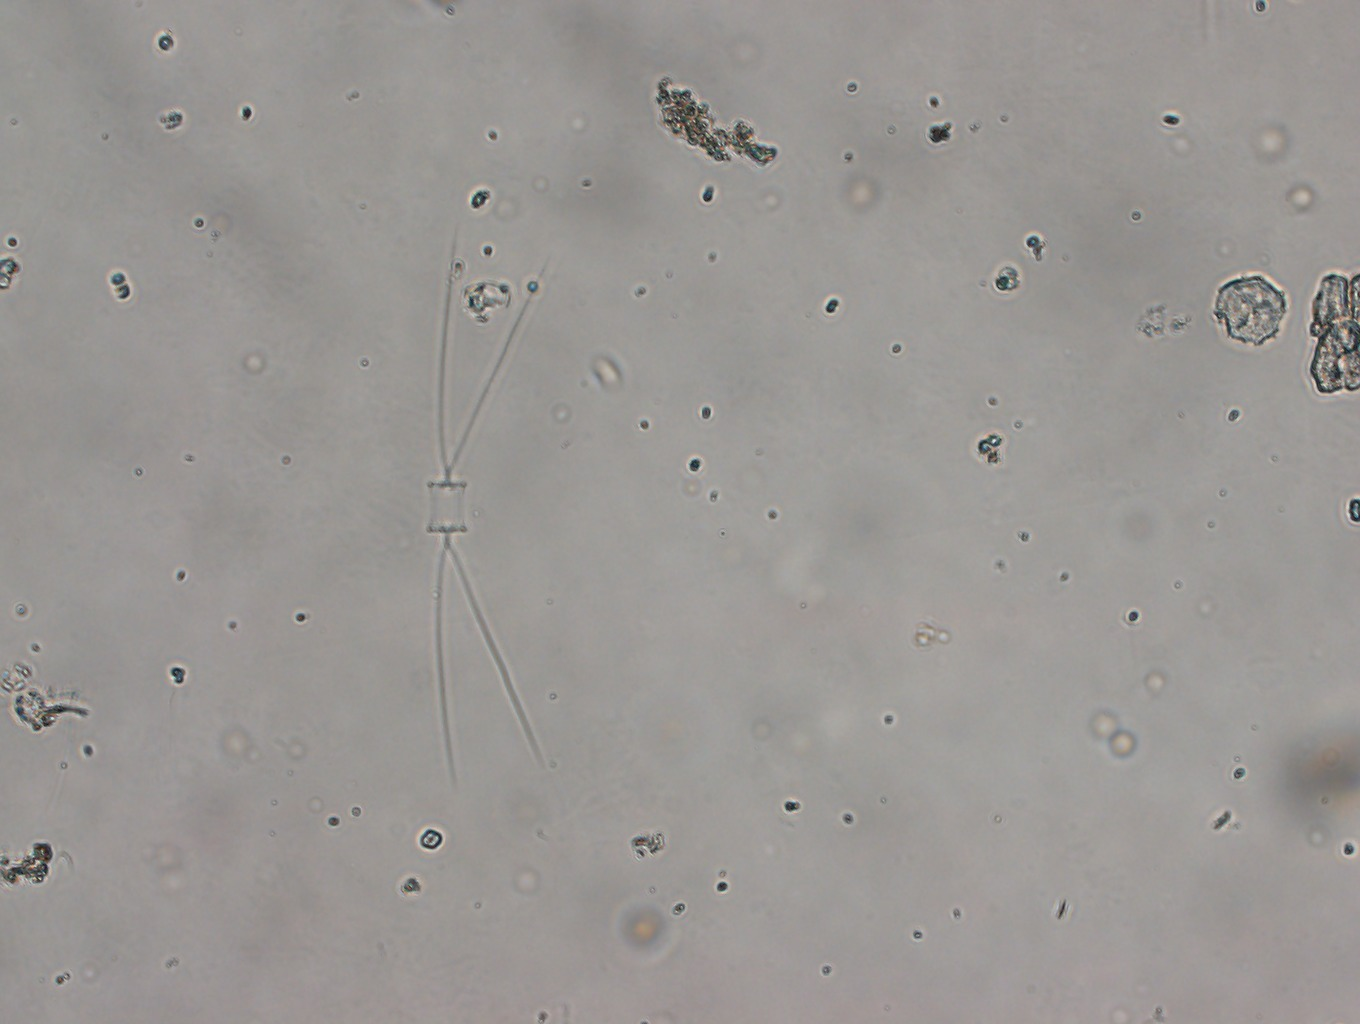chaetoceros: (424, 224, 552, 791)
